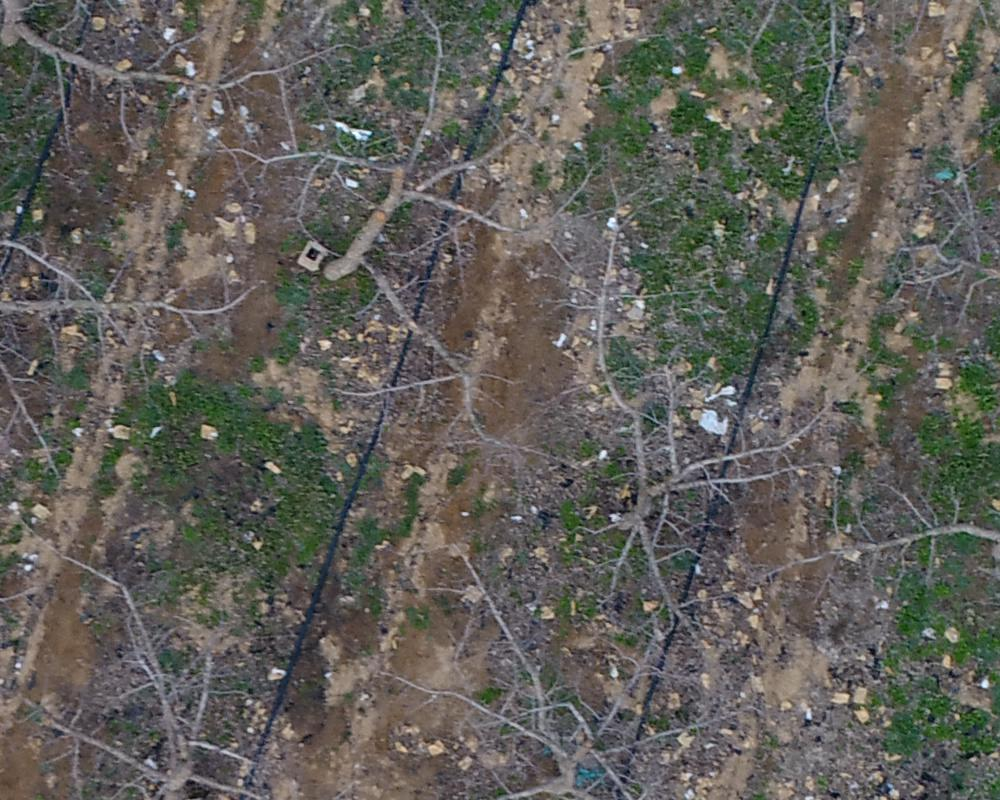apple: (190, 10, 563, 447), (494, 233, 828, 640), (10, 45, 226, 445), (405, 561, 749, 790), (10, 555, 342, 790)
